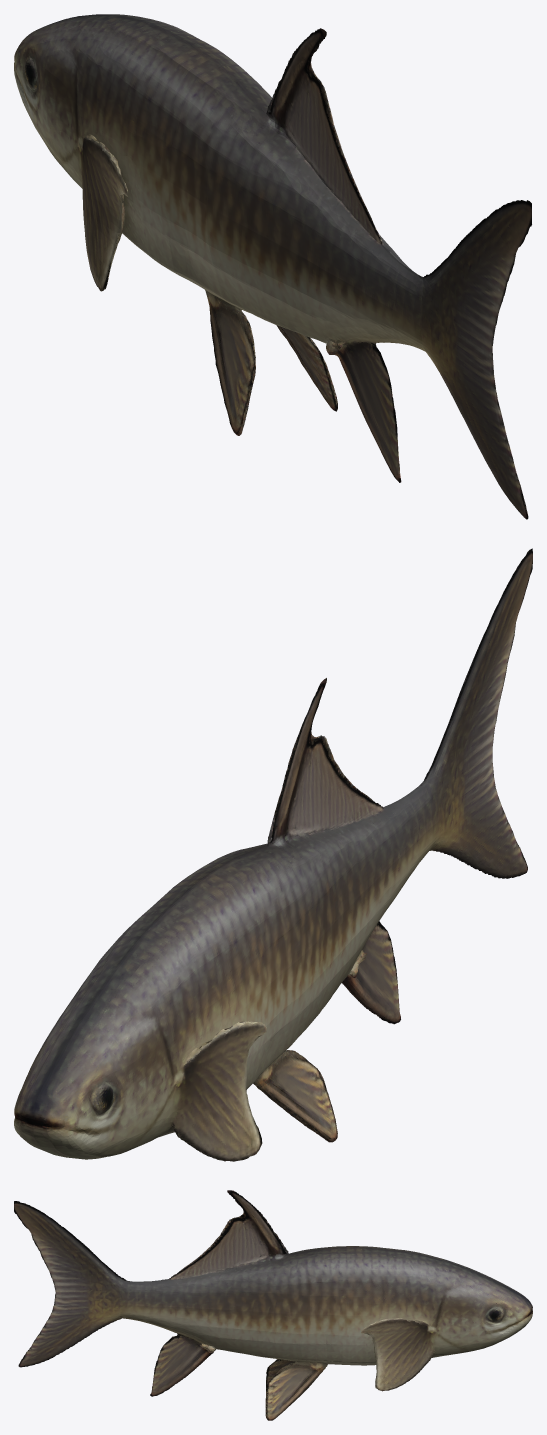
3 renders of one model, top to bottom at view 1: azimuth 30°, elevation 25°; view 2: azimuth 150°, elevation 25°; view 3: azimuth 270°, elevation 25°, orthographic. The views are drawn at different scales.
Parts seen in each view (by area): view 1: world; view 2: world; view 3: world.
Boxes of the visible parts, x1,y1,x2,y2 form: world: (14,14,531,519); world: (14,548,532,1161); world: (14,1190,532,1420).
Size of the model in its own units: 0.1817 by 0.465 by 1.
1 material, 1 textured.
